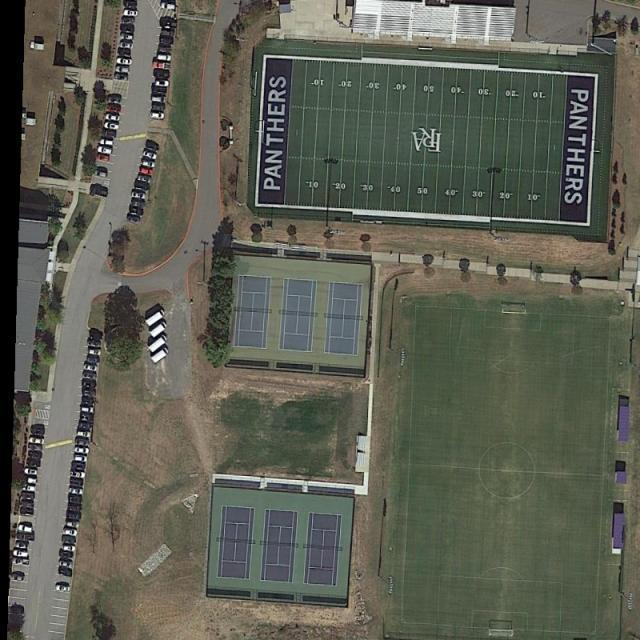vehicle: (149, 346, 170, 365), (148, 334, 169, 352), (145, 309, 166, 326), (149, 321, 169, 338), (56, 566, 74, 579), (90, 186, 109, 198), (127, 206, 145, 218), (134, 182, 152, 193), (103, 121, 121, 132), (130, 198, 146, 210), (125, 214, 142, 225), (142, 150, 159, 161), (91, 168, 108, 179), (105, 103, 122, 114), (152, 61, 172, 70), (100, 129, 118, 139), (144, 142, 160, 153), (115, 57, 134, 66), (16, 533, 35, 542), (153, 70, 170, 80), (12, 549, 29, 559), (20, 475, 37, 485), (139, 159, 156, 169), (96, 146, 113, 156), (137, 174, 152, 185), (160, 20, 178, 29), (151, 86, 167, 96), (18, 507, 34, 517), (17, 524, 33, 534), (62, 527, 78, 537), (75, 438, 91, 448), (78, 421, 94, 431), (69, 494, 83, 505), (60, 535, 77, 544), (66, 512, 83, 521), (27, 444, 44, 453), (104, 113, 121, 122), (105, 94, 122, 103), (30, 426, 45, 436), (70, 478, 85, 488), (139, 167, 154, 177), (157, 45, 173, 54), (12, 558, 30, 566), (26, 458, 42, 467), (131, 191, 147, 200), (94, 153, 110, 162), (98, 138, 114, 147), (82, 379, 98, 388), (82, 372, 98, 381), (117, 47, 131, 57), (58, 550, 75, 558), (123, 9, 138, 18), (161, 2, 176, 11), (24, 467, 39, 476), (14, 541, 29, 550), (59, 560, 74, 569), (27, 451, 42, 460), (150, 111, 165, 120), (83, 363, 98, 372), (156, 54, 172, 62), (121, 25, 135, 34), (120, 33, 134, 42), (160, 37, 174, 46), (161, 29, 175, 38), (72, 462, 86, 471), (67, 504, 82, 512), (70, 470, 85, 478), (29, 438, 46, 445), (124, 1, 138, 9), (120, 42, 134, 50), (114, 66, 130, 73), (114, 74, 130, 81), (151, 96, 167, 103), (152, 104, 166, 112), (18, 500, 34, 507), (90, 330, 104, 338), (74, 455, 88, 463), (74, 447, 90, 454), (81, 396, 95, 404), (86, 340, 102, 347), (155, 80, 170, 87), (61, 545, 76, 552), (66, 521, 81, 528), (68, 487, 83, 494), (81, 414, 94, 422), (22, 485, 36, 492), (21, 493, 35, 500), (81, 406, 95, 413), (82, 389, 96, 396), (55, 586, 71, 592), (90, 348, 102, 356), (10, 574, 22, 582), (122, 18, 135, 25), (86, 356, 99, 363), (78, 431, 92, 437)
